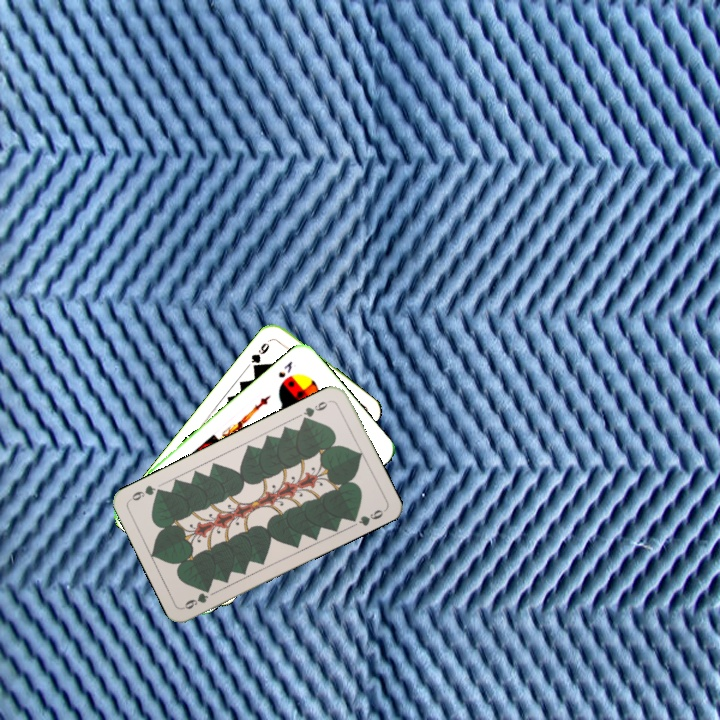G9: (247, 335, 274, 372), (180, 584, 213, 612), (298, 397, 330, 425)
SK: (274, 357, 295, 380)
